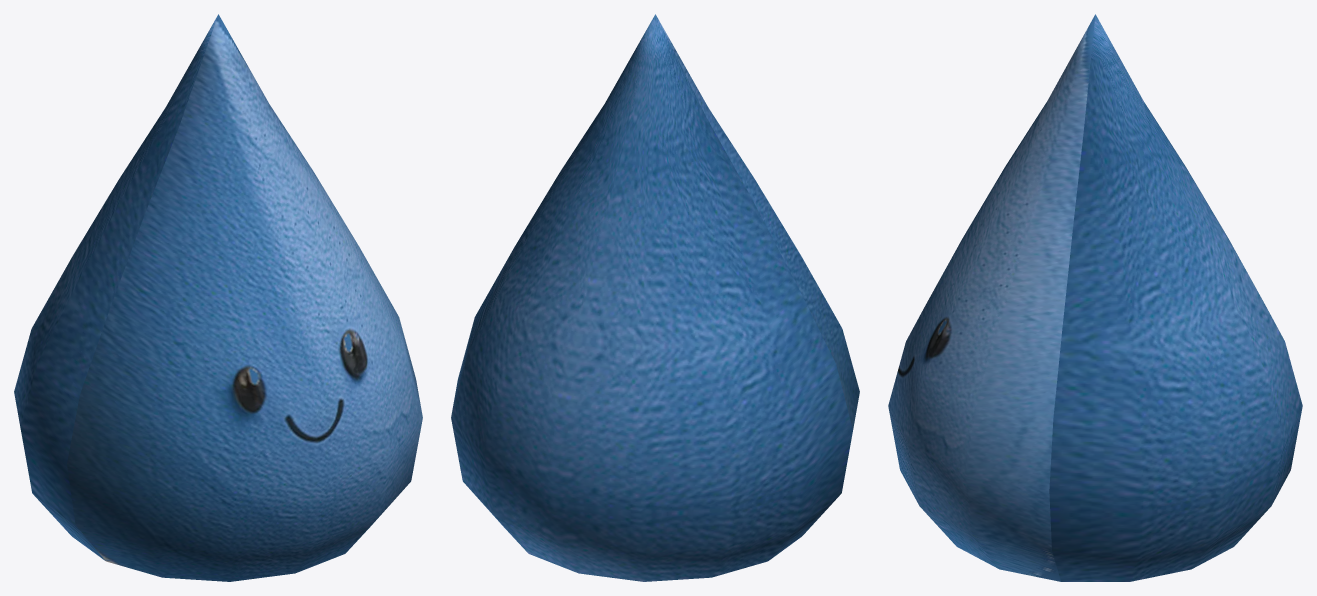
File: toad-prop-raindrop.glb
The picture shows the model from 3 angles, left to right: view 1: azimuth 30°, elevation 25°; view 2: azimuth 150°, elevation 25°; view 3: azimuth 270°, elevation 25°; orthographic projection.
Visible parts, largest first — view 1: raindrop; view 2: raindrop; view 3: raindrop.
Boxes of the visible parts, x1,y1,x2,y2 form: raindrop: (14,14,422,581); raindrop: (451,14,859,581); raindrop: (888,14,1302,581).
Bounding box in the file's own units: 0.0205 × 0.03 × 0.021.
Materials: 1 (1 with a texture image).
